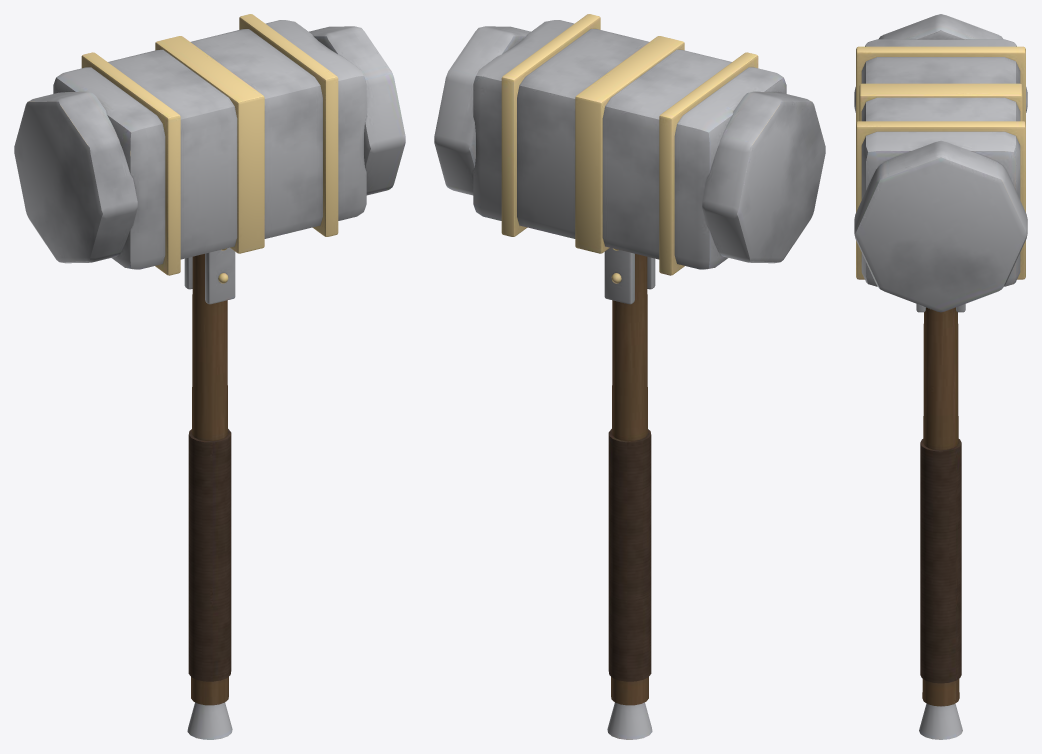
Rendered from wpn_hammer.glb.
3 renders of one model, left to right at view 1: azimuth 30°, elevation 25°; view 2: azimuth 150°, elevation 25°; view 3: azimuth 270°, elevation 25°, orthographic. The views are drawn at different scales.
Parts seen in each view (by area): view 1: hammer; view 2: hammer; view 3: hammer.
Boxes of the visible parts, box(x1,y1,x2,y2) form: hammer: box(14, 14, 405, 739); hammer: box(434, 14, 825, 739); hammer: box(854, 14, 1027, 739).
Bounding box in the file's own units: 0.78 × 1.62 × 0.3933.
Materials: 1 (1 with a texture image).
